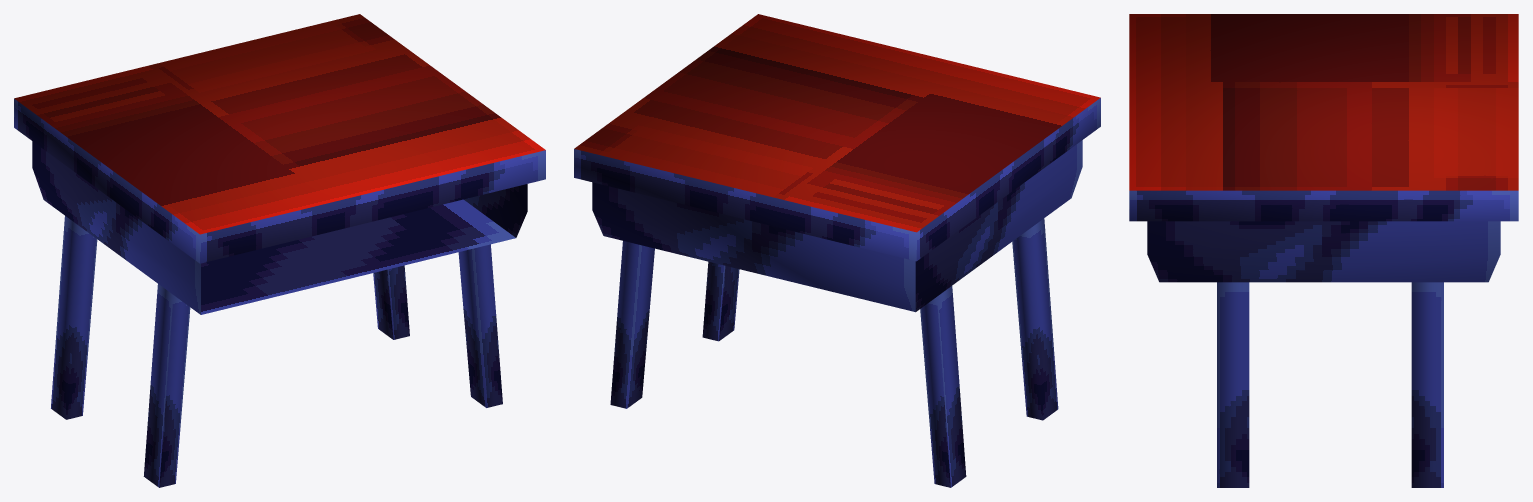
3 views of the same model, side by side, from view 1: azimuth 30°, elevation 25°; view 2: azimuth 150°, elevation 25°; view 3: azimuth 270°, elevation 25° (orthographic). The views are drawn at different scales.
Visible parts, largest first — view 1: 3454IMSL01_01; view 2: 3454IMSL01_01; view 3: 3454IMSL01_01.
Boxes of the visible parts, x1=… form: 3454IMSL01_01: x1=14, y1=14, x2=545, y2=487; 3454IMSL01_01: x1=574, y1=14, x2=1100, y2=487; 3454IMSL01_01: x1=1129, y1=14, x2=1518, y2=487.
Size of the model in its own units: 0.9551 by 0.75 by 0.8892.
1 material, 1 textured.
